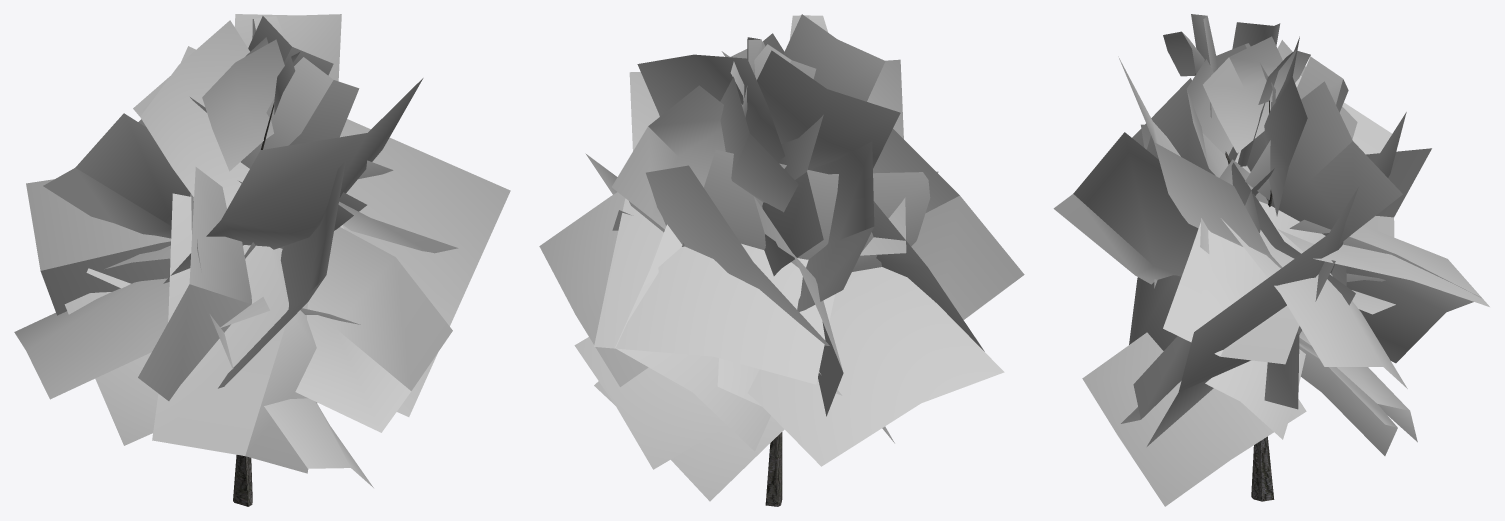
File: tree_1_3.gltf
3 views of the same model, side by side, from view 1: azimuth 30°, elevation 25°; view 2: azimuth 150°, elevation 25°; view 3: azimuth 270°, elevation 25° (orthographic). The views are drawn at different scales.
Parts seen in each view (by area): view 1: Tree-01-3; view 2: Tree-01-3; view 3: Tree-01-3.
Part boxes in pixels (x1,y1,x2,y2): Tree-01-3: [14, 14, 510, 506]; Tree-01-3: [539, 14, 1024, 506]; Tree-01-3: [1053, 14, 1489, 506].
Size of the model in its own units: 7.27 by 7.51 by 6.21.
